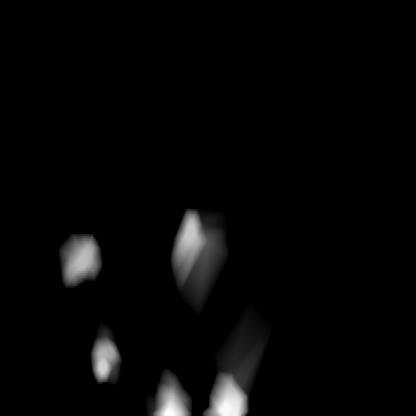palm: (60, 234, 247, 414)
